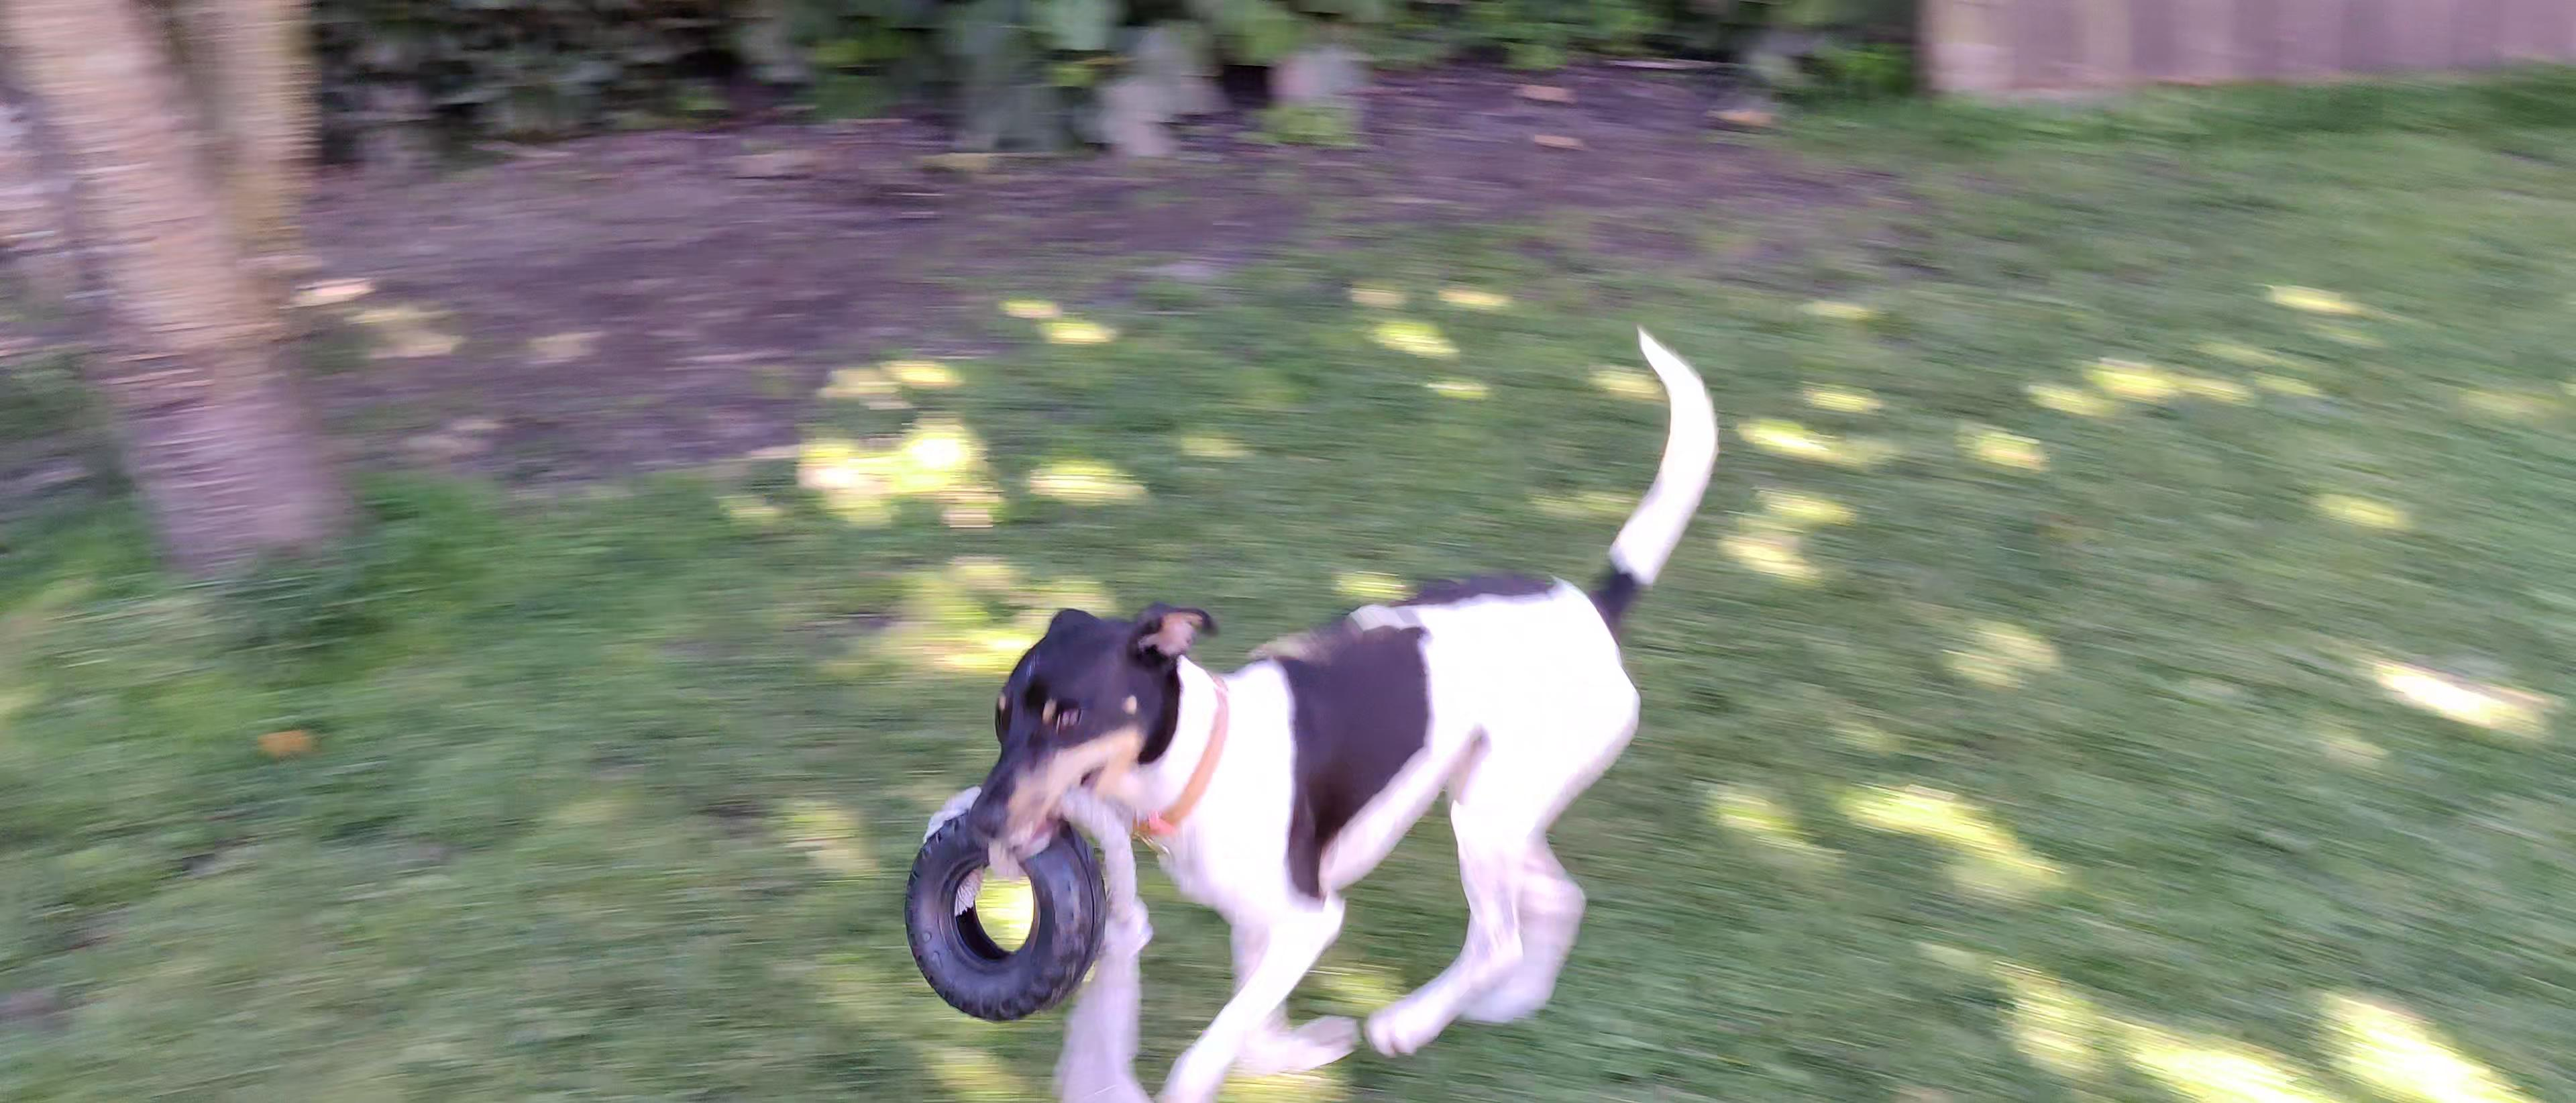Dog: (941, 299, 1745, 1103)
